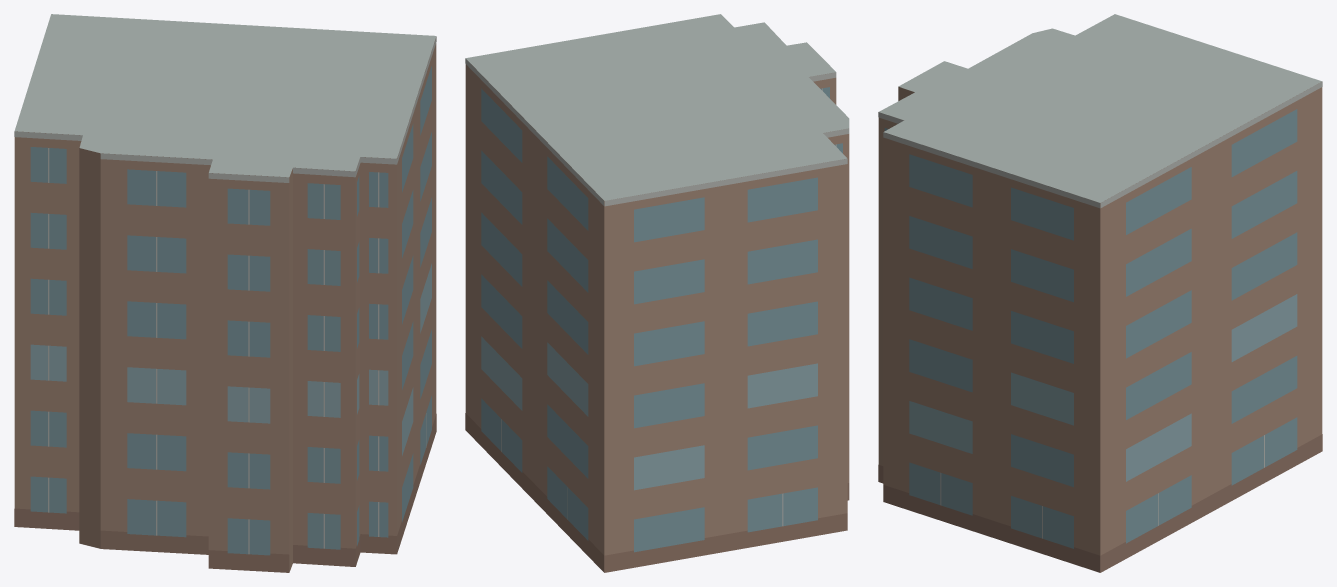
File: survey-upis-32757746.glb
3 renders of one model, left to right at view 1: azimuth 30°, elevation 25°; view 2: azimuth 150°, elevation 25°; view 3: azimuth 270°, elevation 25°, orthographic. The views are drawn at different scales.
Visible parts, largest first — view 1: survey-upis-32757746.tmp; view 2: survey-upis-32757746.tmp; view 3: survey-upis-32757746.tmp.
Part boxes in pixels (<box>): survey-upis-32757746.tmp: <box>14,14,436,572</box>; survey-upis-32757746.tmp: <box>465,14,849,572</box>; survey-upis-32757746.tmp: <box>878,14,1322,572</box>.
Bounding box in the file's own units: 18.14 × 16.55 × 18.01.
